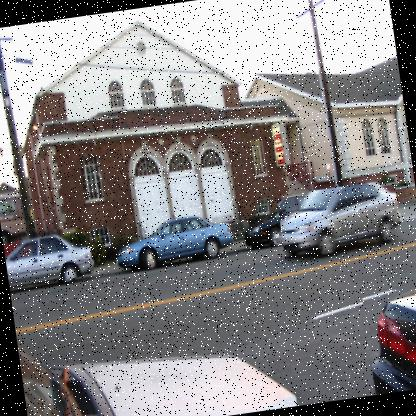Car: (17, 305, 299, 415), (276, 179, 404, 260), (103, 206, 240, 278), (2, 224, 95, 288), (361, 285, 415, 395), (240, 194, 335, 251)
